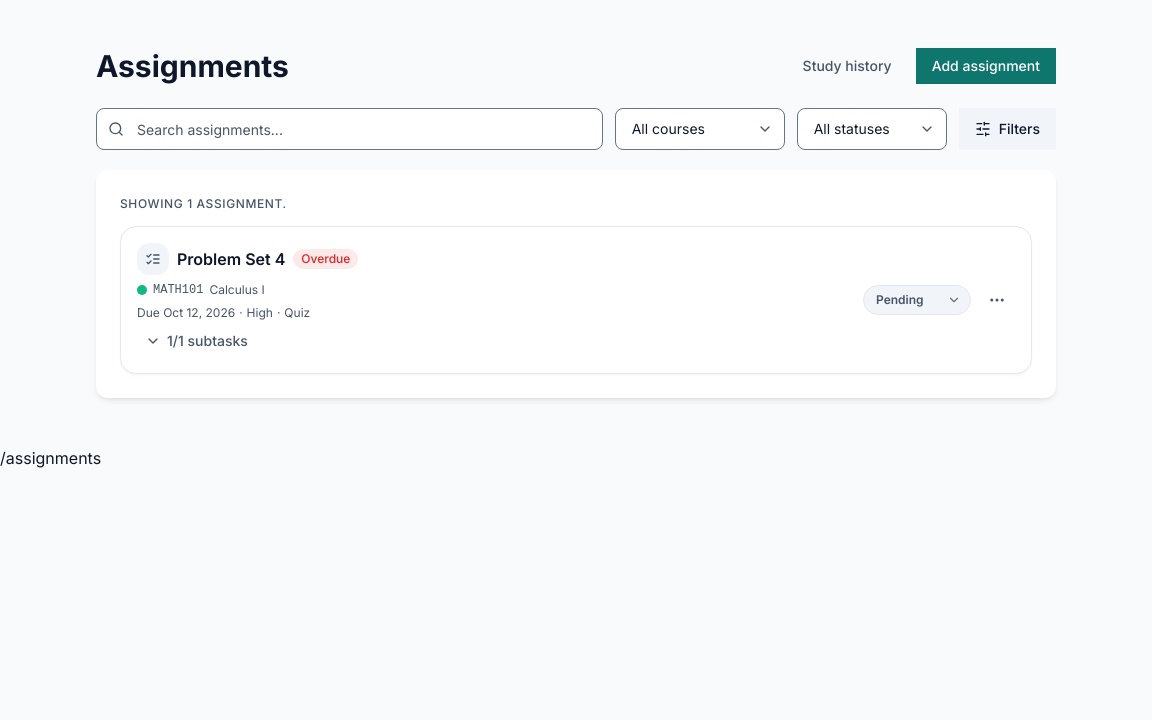
AssignmentsPage shared interaction (SP-124B AC 8) › deletes through the overflow menu and the shared dialog, then removes the row
Expected: the button "Problem Set 4" is shown, [177,247,285,271]
Click the button named "Actions for Problem Set 4". click: (997, 300)
box: [979,282,1015,318]
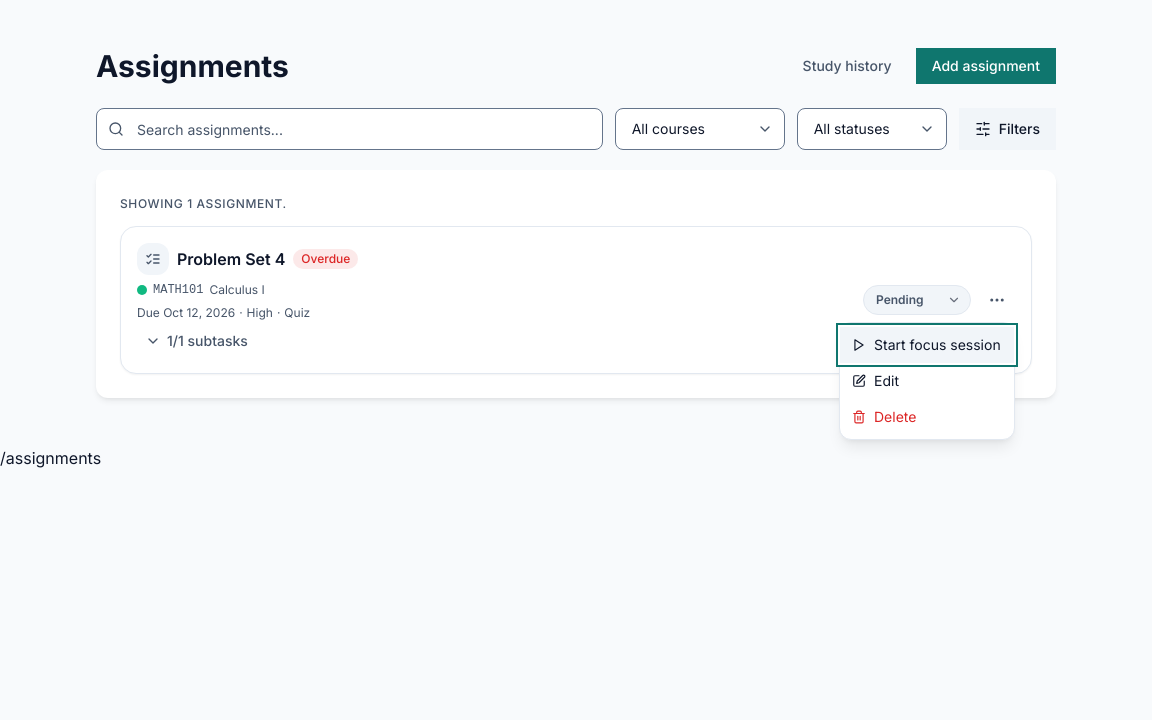
Click the menu item with aria-label "Delete Problem Set 4". click: (927, 417)
box: [840,399,1014,435]
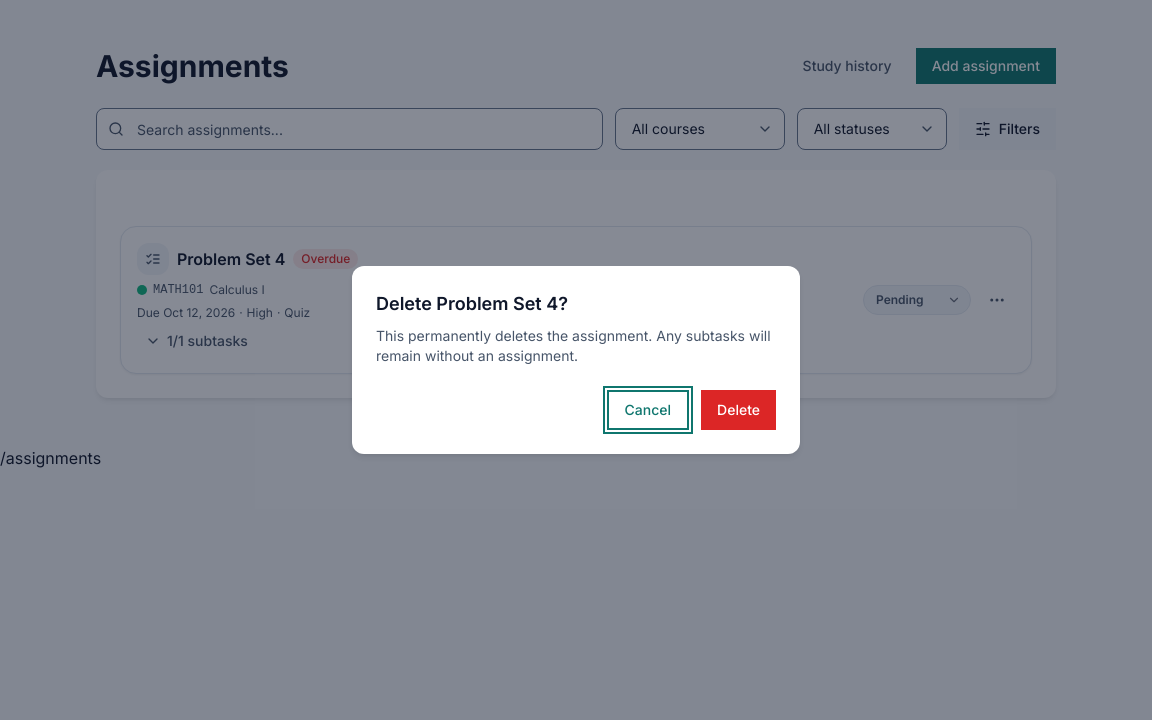
Click the button with aria-label "Delete Problem Set 4". click: (739, 410)
box: [701,390,776,430]
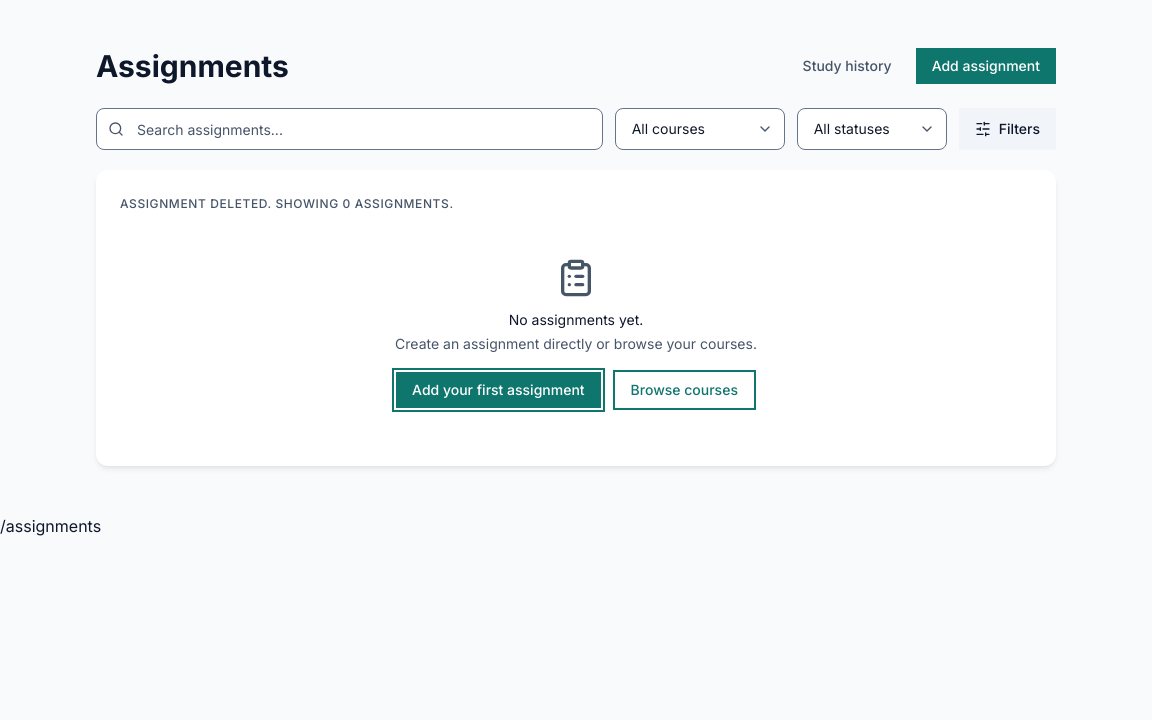
Expected: the button "Problem Set 4" is gone
Expected: the text "No assignments yet." is shown, [509,311,643,328]
